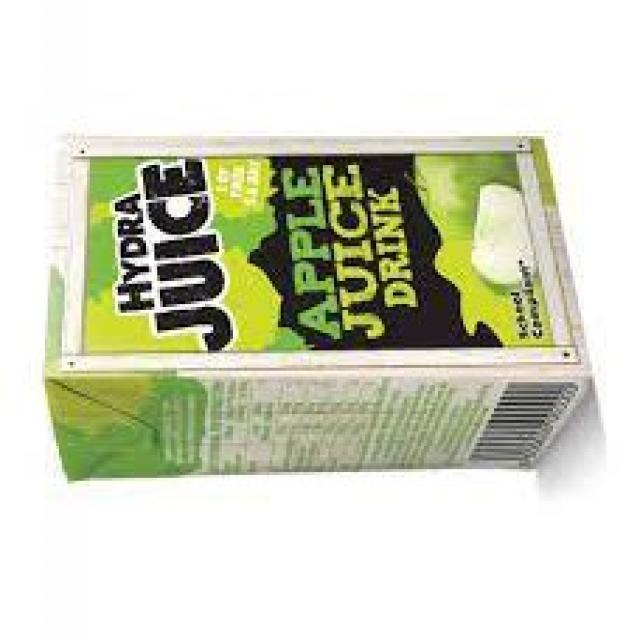non_white_jug: (38, 129, 601, 490)
